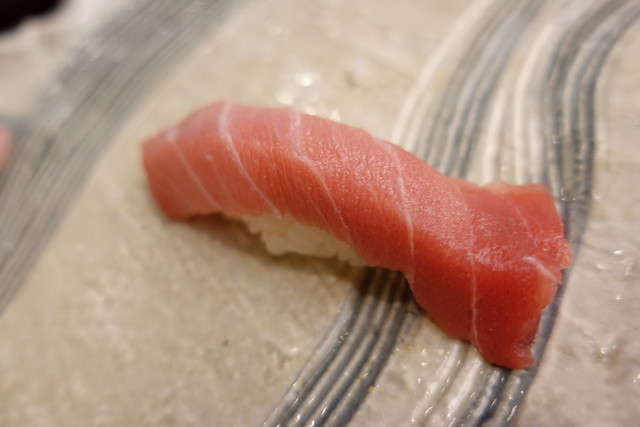medium_fatty_tuna: (140, 97, 564, 381)
